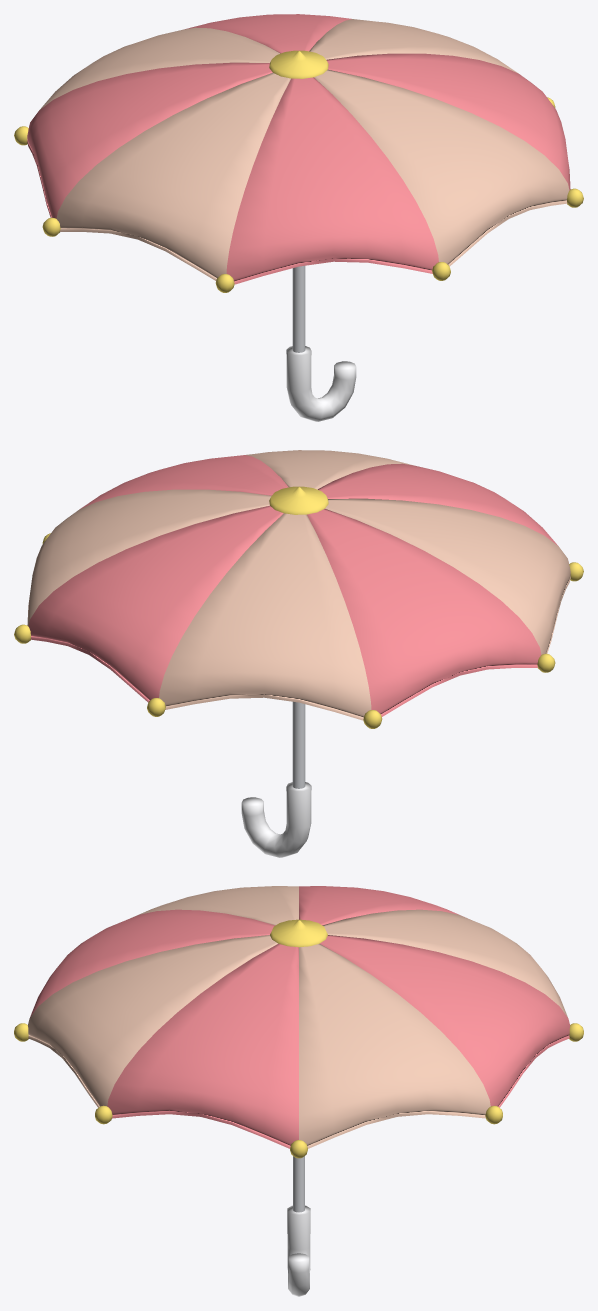
File: ParasolPlummetUmbrella.glb
3 views of the same model, one above another, from view 1: azimuth 30°, elevation 25°; view 2: azimuth 150°, elevation 25°; view 3: azimuth 270°, elevation 25° (orthographic). The views are drawn at different scales.
Parts seen in each view (by area): view 1: Stripe, Canopy, Handle, Tip, Shaft; view 2: Canopy, Stripe, Handle, Tip, Shaft; view 3: Canopy, Stripe, Tip, Handle, Shaft.
Part boxes in pixels (x1=…): Stripe: x1=39, y1=19, x2=569, y2=280; Canopy: x1=27, y1=14, x2=570, y2=284; Handle: x1=286, y1=346, x2=356, y2=421; Tip: x1=14, y1=50, x2=583, y2=292; Shaft: x1=292, y1=265, x2=305, y2=352; Canopy: x1=28, y1=455, x2=558, y2=716; Stripe: x1=27, y1=450, x2=570, y2=720; Handle: x1=241, y1=782, x2=311, y2=857; Tip: x1=14, y1=486, x2=583, y2=728; Shaft: x1=292, y1=701, x2=305, y2=788; Canopy: x1=30, y1=886, x2=569, y2=1148; Stripe: x1=28, y1=886, x2=567, y2=1148; Tip: x1=14, y1=919, x2=583, y2=1158; Handle: x1=287, y1=1205, x2=310, y2=1296; Shaft: x1=293, y1=1156, x2=304, y2=1212.
Size of the model in its own units: 7.96 by 5.57 by 7.95.
